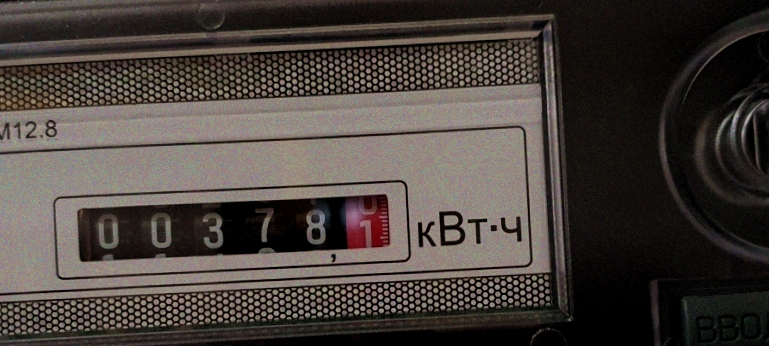0: (95, 209, 123, 250), (148, 209, 173, 249), (357, 193, 379, 215)
1: (356, 216, 376, 248)
3: (199, 209, 226, 250)
7: (252, 204, 276, 243)
8: (303, 206, 328, 246)
screen: (57, 175, 409, 271)
